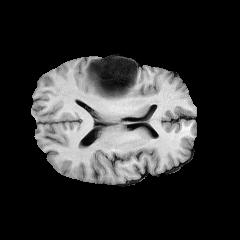glioma: (82, 57, 137, 101)
